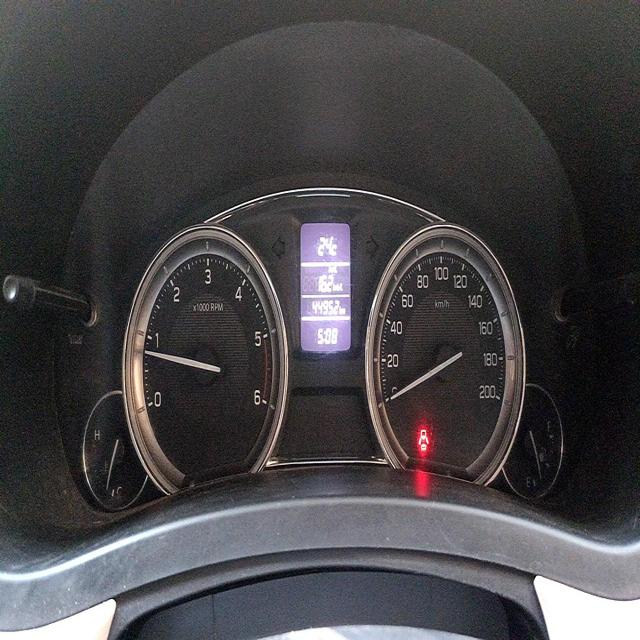odometer: (310, 293, 341, 319)
